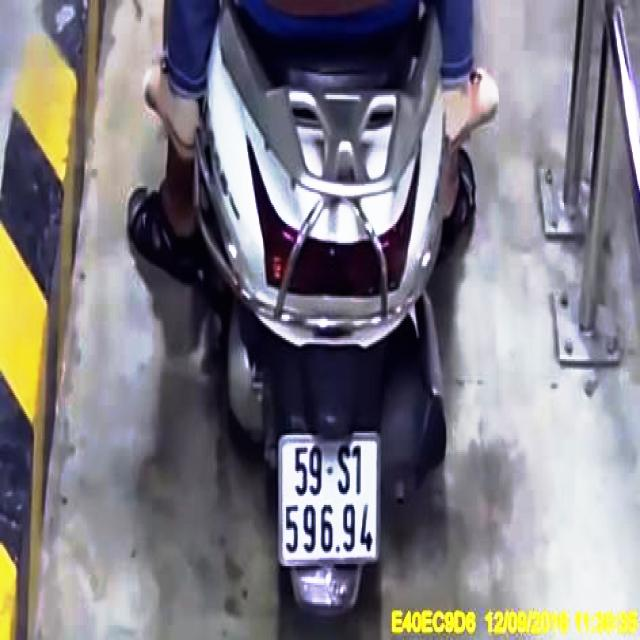license_plate: (280, 437, 382, 563)
